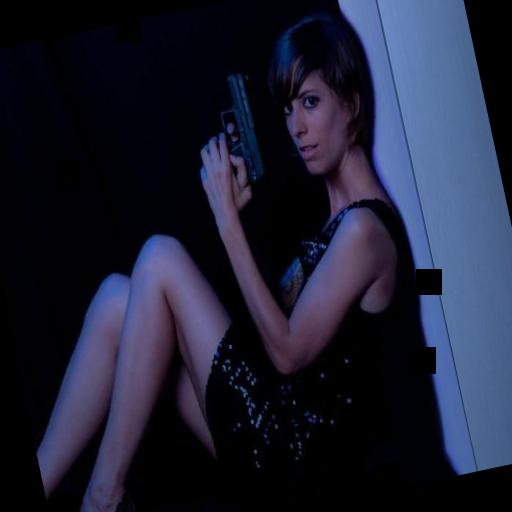Handgun: (190, 56, 278, 202)
